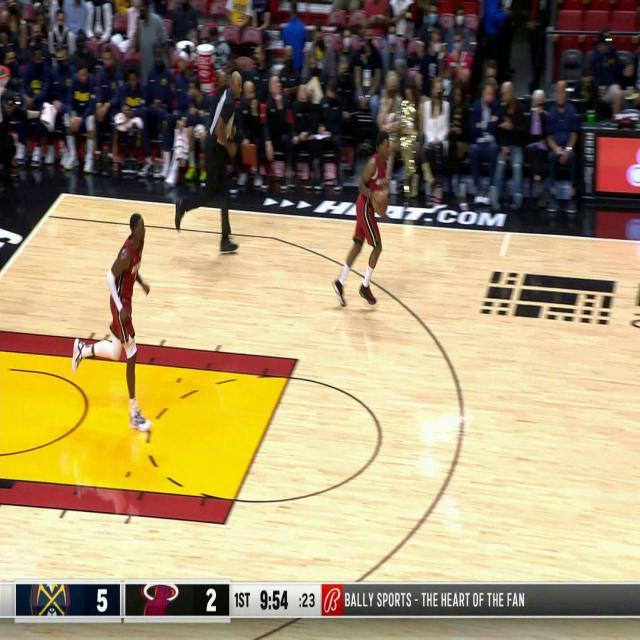rim: (373, 191, 388, 214)
